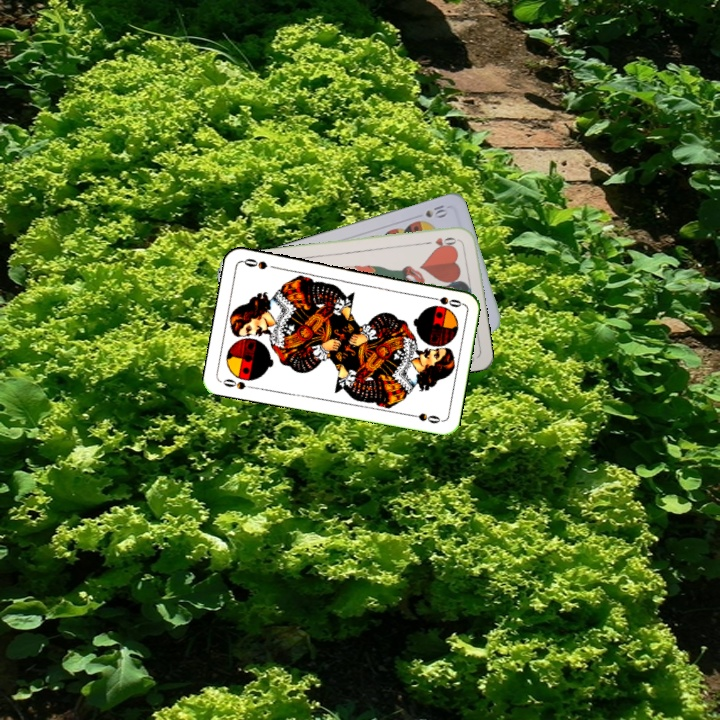HO: (421, 233, 461, 249)
S10: (421, 200, 450, 220)
SO: (424, 292, 464, 310), (217, 375, 258, 392)
